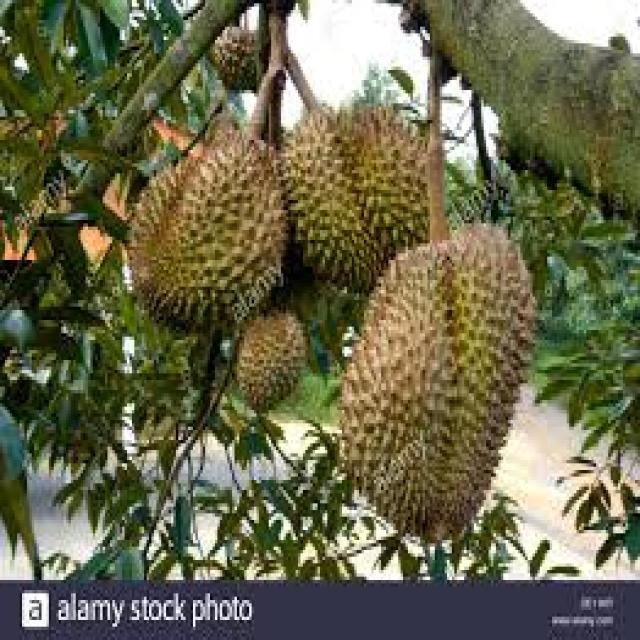mature: (341, 225, 535, 542), (129, 118, 288, 331)
